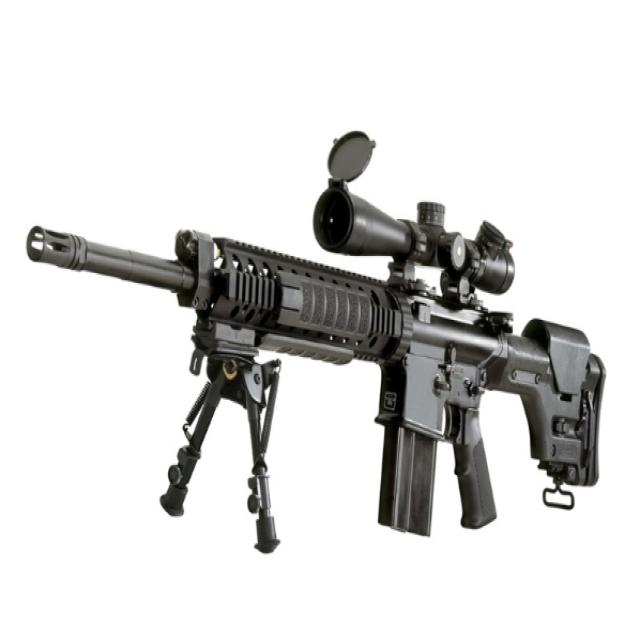Rifle: (27, 132, 607, 539)
